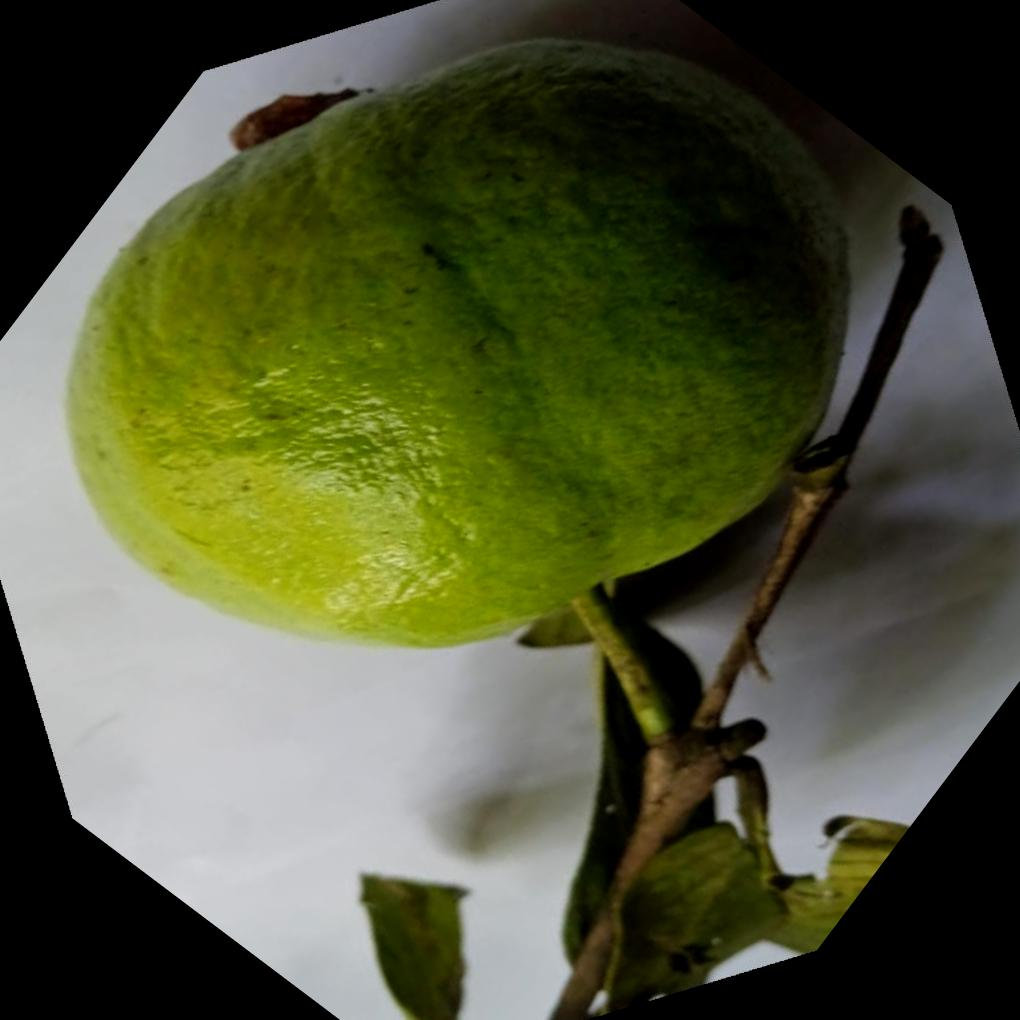FreshGuava: (61, 29, 857, 649)
